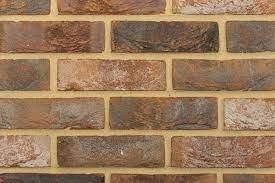Bricks: (1, 97, 106, 130), (172, 136, 275, 169), (59, 61, 167, 92), (112, 22, 219, 52), (58, 137, 165, 167), (172, 60, 275, 91), (0, 22, 105, 52), (111, 99, 218, 128), (0, 57, 50, 91), (0, 137, 50, 169), (225, 99, 275, 130), (227, 20, 275, 50), (172, 2, 275, 15), (59, 2, 166, 13), (111, 174, 217, 183), (4, 174, 103, 183), (1, 0, 51, 16), (224, 174, 275, 183)
